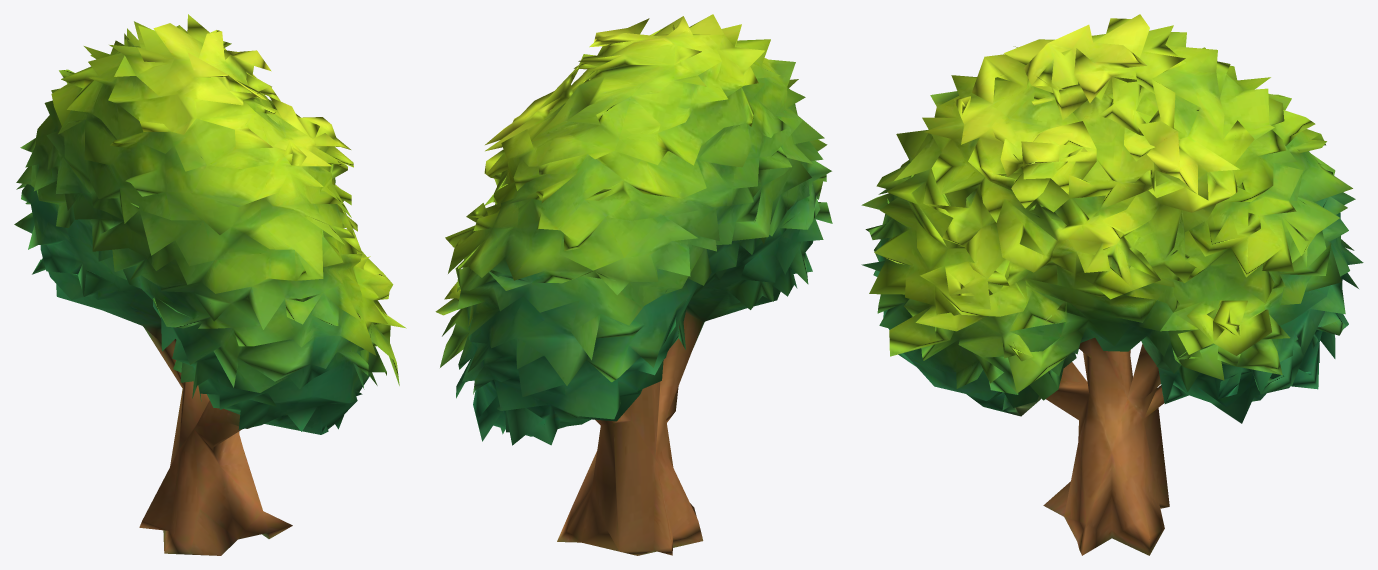
Rendered from pommier.glb.
3 renders of one model, left to right at view 1: azimuth 30°, elevation 25°; view 2: azimuth 150°, elevation 25°; view 3: azimuth 270°, elevation 25°, orthographic. The views are drawn at different scales.
Parts seen in each view (by area): view 1: tripo_node_9d46e471-b477-4dd7-b8f2-397fb10d15c8; view 2: tripo_node_9d46e471-b477-4dd7-b8f2-397fb10d15c8; view 3: tripo_node_9d46e471-b477-4dd7-b8f2-397fb10d15c8.
Part boxes in pixels (x1=…): tripo_node_9d46e471-b477-4dd7-b8f2-397fb10d15c8: x1=14, y1=14, x2=406, y2=555; tripo_node_9d46e471-b477-4dd7-b8f2-397fb10d15c8: x1=435, y1=14, x2=832, y2=555; tripo_node_9d46e471-b477-4dd7-b8f2-397fb10d15c8: x1=861, y1=14, x2=1363, y2=555.
Bounding box in the file's own units: 0.5164 × 1 × 0.9187.
1 material, 1 textured.
